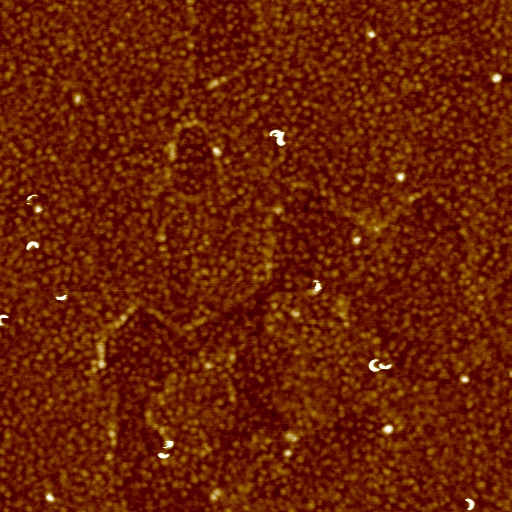-1: (269, 127, 287, 148), (380, 422, 395, 436), (311, 278, 323, 293), (163, 438, 175, 451), (395, 170, 406, 183), (351, 234, 362, 246), (492, 72, 502, 84), (366, 29, 376, 38), (460, 374, 469, 384)
1/4: (22, 191, 40, 203), (156, 450, 171, 461), (55, 293, 68, 302)
2/4: (461, 494, 476, 512), (365, 356, 379, 375), (25, 238, 41, 253), (1, 312, 9, 327)
